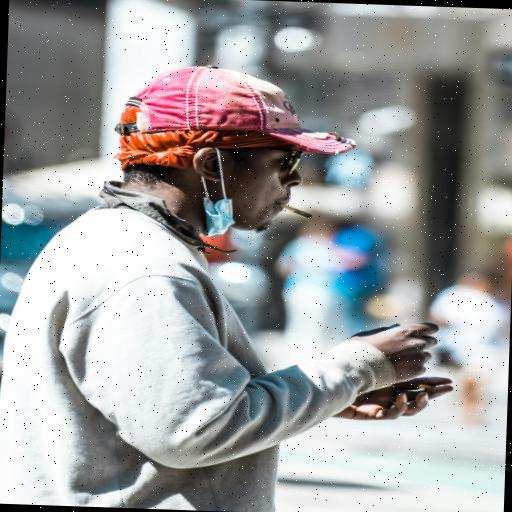terdeteksi merokok: (237, 118, 364, 244)
